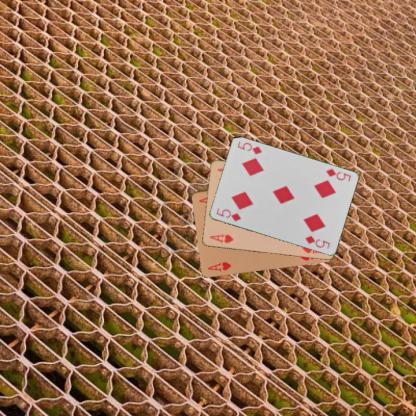5d: (323, 166, 352, 182), (214, 206, 242, 222)
Ah: (205, 260, 232, 274), (208, 232, 235, 244)
